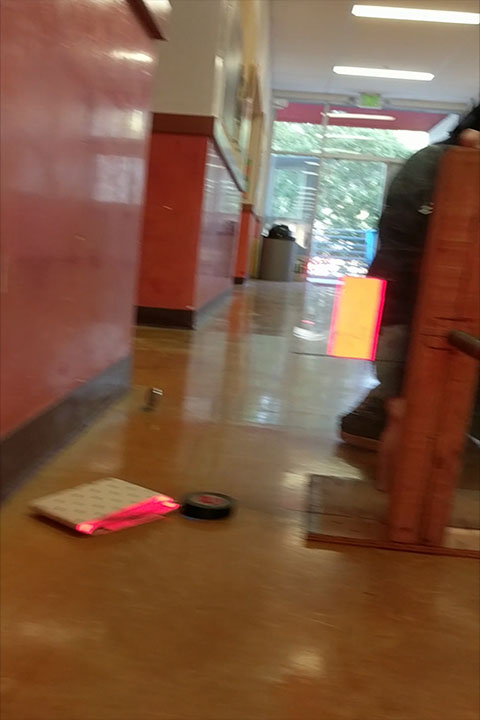gear: (327, 275, 386, 361)
